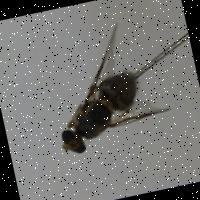Oriental-fruit-fly: (27, 5, 192, 172)
